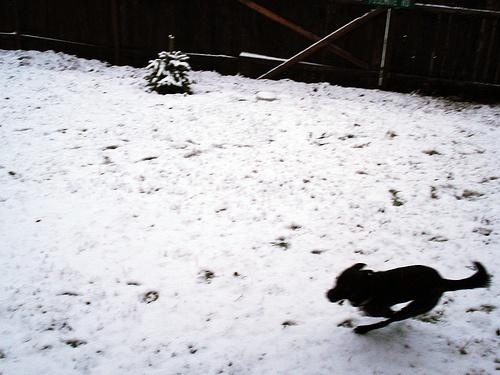dog: (322, 258, 496, 341)
